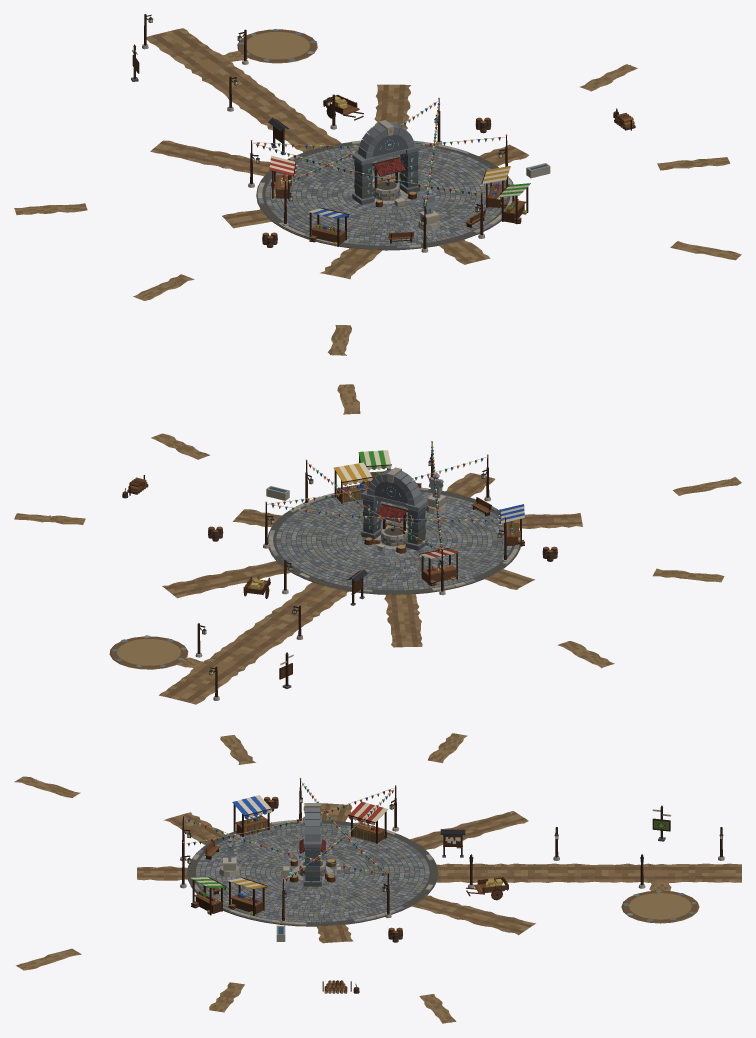
The model's file is town.glb.
3 renders of one model, top to bottom at view 1: azimuth 30°, elevation 25°; view 2: azimuth 150°, elevation 25°; view 3: azimuth 270°, elevation 25°, orthographic. The views are drawn at different scales.
Visible parts, largest first — view 1: town_ground, town_props, town_gate, town_tier1, town_tier2, town_tier3; view 2: town_ground, town_props, town_gate, town_tier1, town_tier2, town_tier3; view 3: town_ground, town_props, town_gate, town_tier1, town_tier2.
Part boxes in pixels (box(x1,y1,x2,y2)): town_ground: box(14, 28, 741, 355); town_props: box(131, 14, 635, 252); town_gate: box(344, 120, 424, 212); town_tier1: box(250, 97, 507, 218); town_tier2: box(496, 183, 530, 224); town_tier3: box(418, 188, 440, 230); town_ground: box(14, 384, 741, 704); town_props: box(122, 454, 557, 700); town_gate: box(348, 467, 435, 557); town_tier1: box(265, 441, 506, 561); town_tier2: box(358, 450, 391, 485); town_tier3: box(425, 472, 447, 514); town_ground: box(14, 733, 741, 1023); town_props: box(180, 791, 724, 993); town_gate: box(280, 803, 342, 887); town_tier1: box(182, 778, 396, 891); town_tier2: box(190, 876, 226, 915).
Size of the model in its own units: 56.38 by 6.3 by 59.67.
